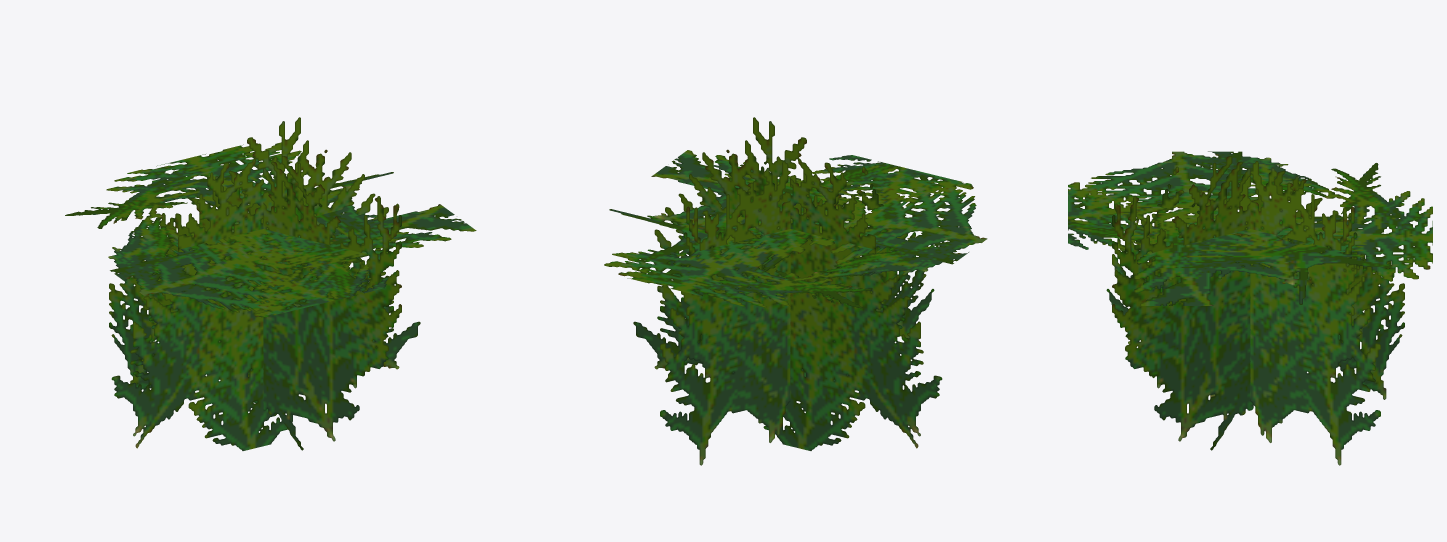
File: bush_04_far.glb
3 views of the same model, side by side, from view 1: azimuth 30°, elevation 25°; view 2: azimuth 150°, elevation 25°; view 3: azimuth 270°, elevation 25° (orthographic).
Parts seen in each view (by area): view 1: env; view 2: env; view 3: env.
Part boxes in pixels (bbox=[...]): env: bbox=[65, 117, 476, 450]; env: bbox=[604, 117, 987, 465]; env: bbox=[1068, 151, 1432, 465].
Bounding box in the file's own units: 1.35 × 1.35 × 1.28.
1 material, 1 textured.
